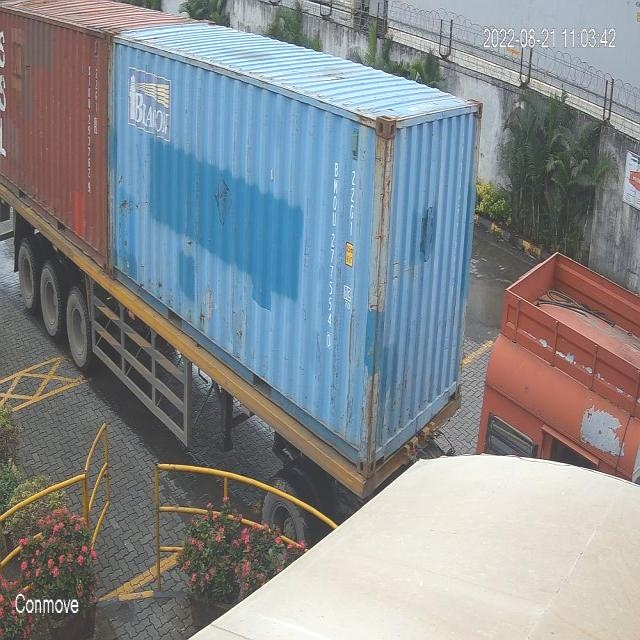Dent: (415, 203, 442, 268), (211, 173, 237, 229)
Rusty: (367, 111, 396, 479), (102, 30, 120, 120)
